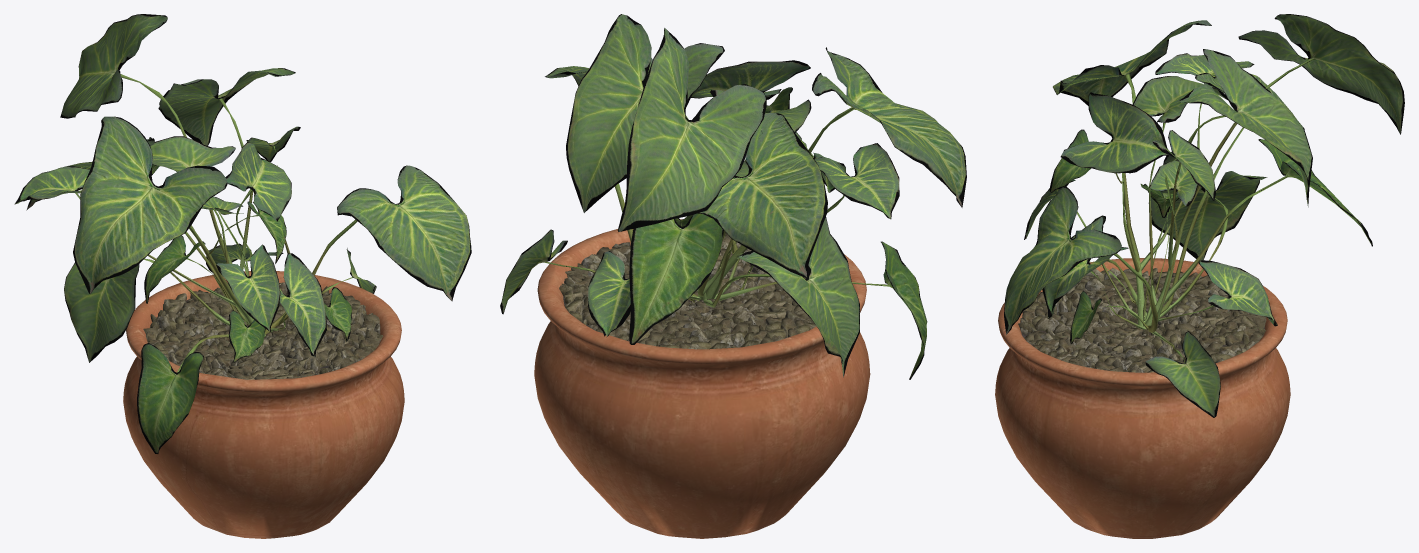
Rendered from potted_plant_02.glb.
3 views of the same model, side by side, from view 1: azimuth 30°, elevation 25°; view 2: azimuth 150°, elevation 25°; view 3: azimuth 270°, elevation 25° (orthographic). The views are drawn at different scales.
Parts seen in each view (by area): view 1: potted_plant_02_leaves, potted_plant_02_pot, potted_plant_02_dirt; view 2: potted_plant_02_leaves, potted_plant_02_pot, potted_plant_02_dirt; view 3: potted_plant_02_leaves, potted_plant_02_pot, potted_plant_02_dirt.
Boxes of the visible parts, left/top/right/bottom form: potted_plant_02_leaves: left=14, top=14, right=471, bottom=453; potted_plant_02_pot: left=123, top=271, right=404, bottom=538; potted_plant_02_dirt: left=143, top=282, right=383, bottom=379; potted_plant_02_leaves: left=500, top=14, right=966, bottom=379; potted_plant_02_pot: left=534, top=219, right=870, bottom=538; potted_plant_02_dirt: left=559, top=233, right=816, bottom=349; potted_plant_02_leaves: left=1004, top=14, right=1404, bottom=417; potted_plant_02_pot: left=995, top=258, right=1290, bottom=538; potted_plant_02_dirt: left=1018, top=268, right=1266, bottom=372.
Bounding box in the file's own units: 0.7012 × 0.8412 × 0.6574.
Materials: 2 (2 with a texture image).
